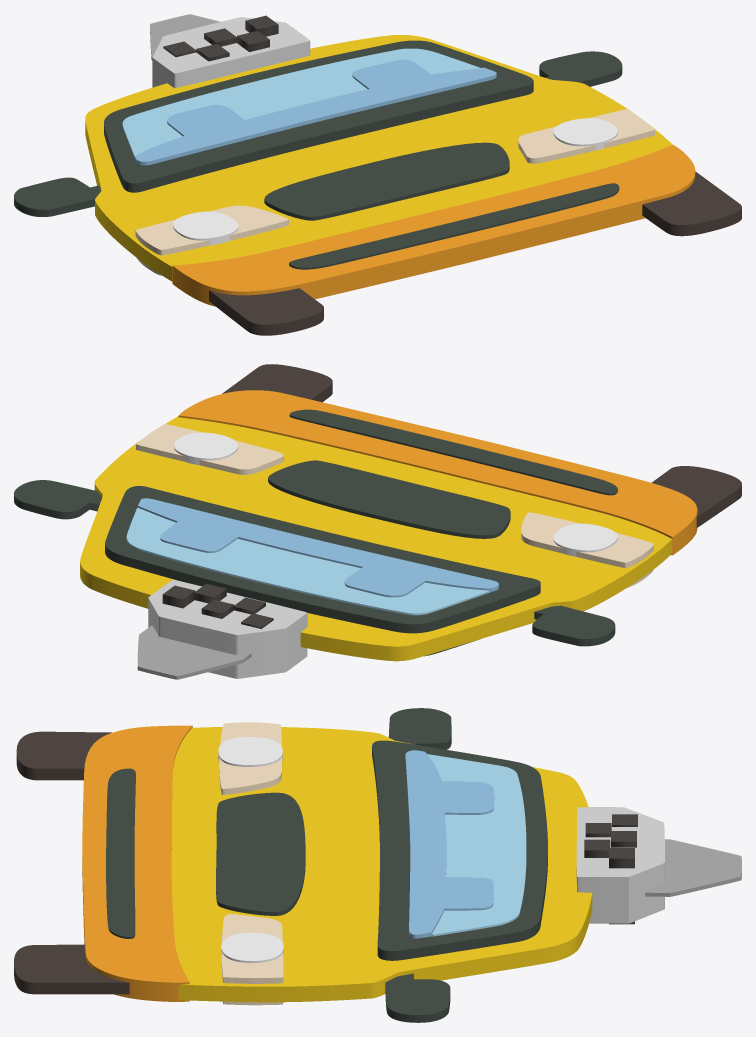
The model's file is emoji_u1f696.glb.
The picture shows the model from 3 angles, top to bottom: view 1: azimuth 30°, elevation 25°; view 2: azimuth 150°, elevation 25°; view 3: azimuth 270°, elevation 25°; orthographic projection. The views are drawn at different scales.
Visible parts, largest first — view 1: emoji_u1f696; view 2: emoji_u1f696; view 3: emoji_u1f696.
Part boxes in pixels (bbox=[...]): emoji_u1f696: bbox=[14, 14, 741, 335]; emoji_u1f696: bbox=[14, 364, 741, 679]; emoji_u1f696: bbox=[14, 708, 741, 1022].
Bounding box in the file's own units: 0.034 × 0.0034 × 0.034.
